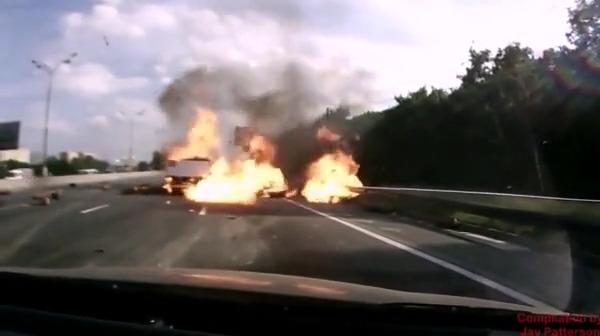fire: (156, 97, 368, 209)
